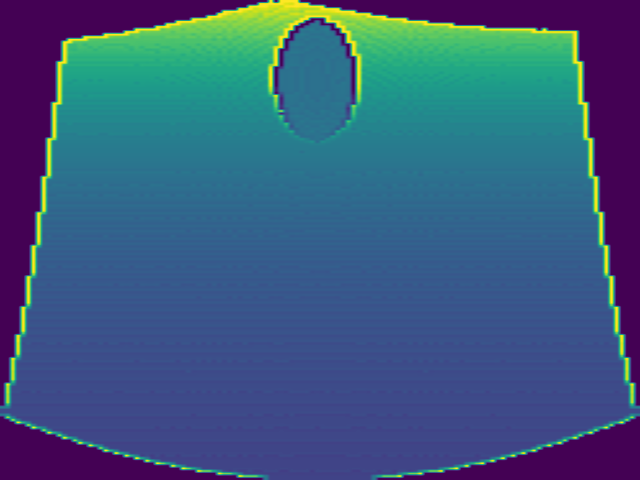sphere: (267, 18, 359, 144)
